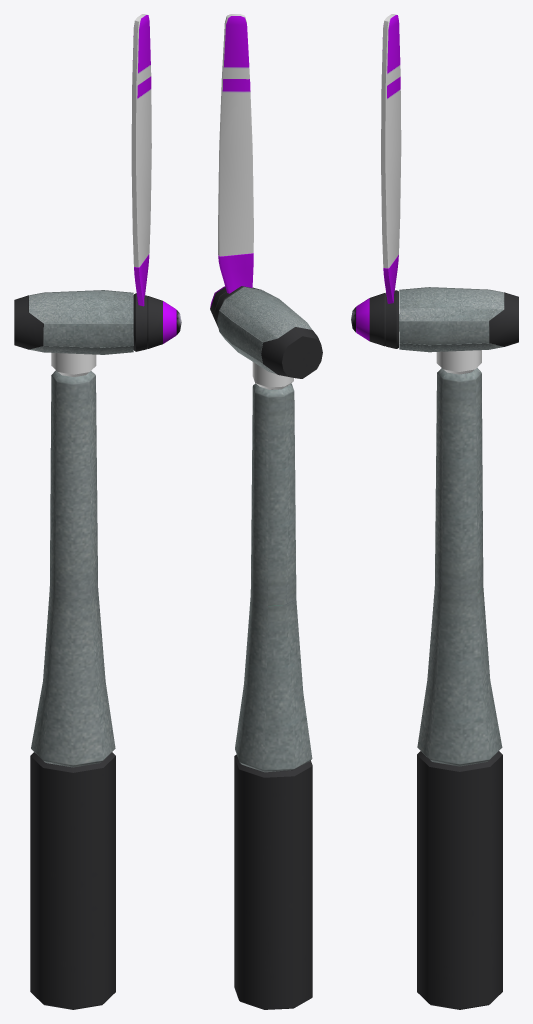
File: WindMill_01.FBX
3 renders of one model, left to right at view 1: azimuth 90°, elevation 25°; view 2: azimuth 210°, elevation 25°; view 3: azimuth 270°, elevation 25°, orthographic. The views are drawn at different scales.
Visible parts, largest first — view 1: cylinder84, polymsh_detached129, polymsh_extracted66; view 2: cylinder84, polymsh_detached129, polymsh_extracted66; view 3: cylinder84, polymsh_detached129, polymsh_extracted66.
Boxes of the visible parts, x1,y1,x2,y2 form: cylinder84: (14, 290, 133, 1009); polymsh_detached129: (131, 14, 151, 306); polymsh_extracted66: (133, 293, 181, 351); cylinder84: (217, 287, 322, 1009); polymsh_detached129: (218, 14, 253, 293); polymsh_extracted66: (210, 286, 261, 327); cylinder84: (399, 287, 518, 1009); polymsh_detached129: (381, 14, 401, 303); polymsh_extracted66: (351, 290, 398, 348).
Bounding box in the file's own units: 3.85 × 50.98 × 7.93.
